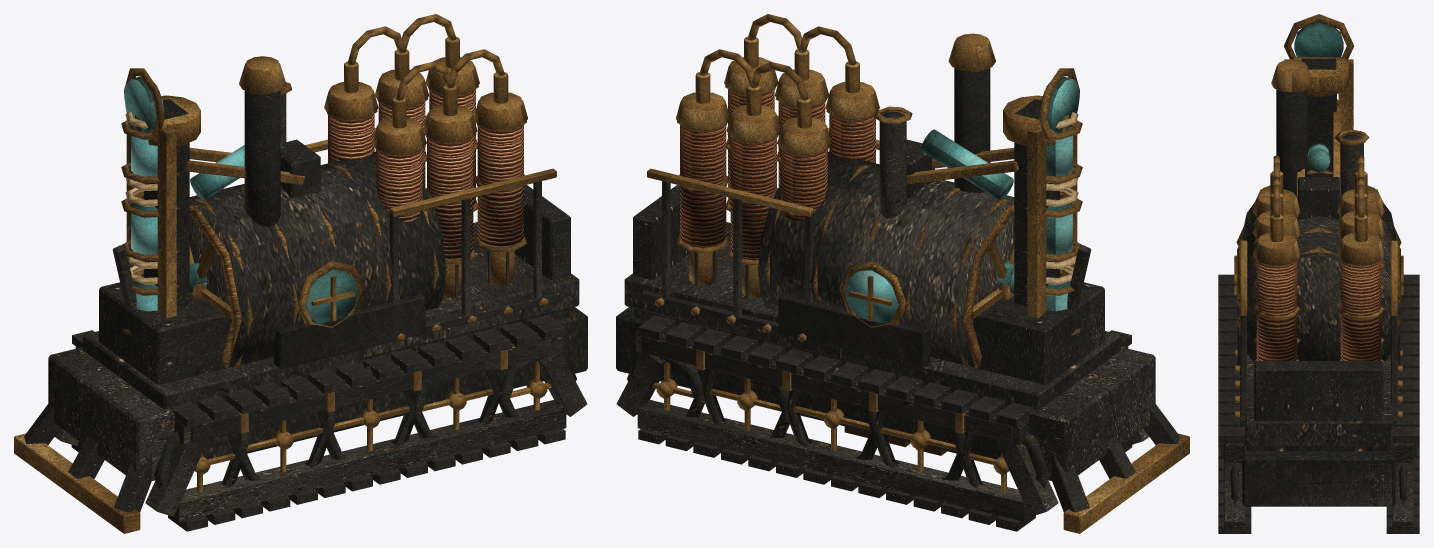
File: crawler.glb
3 renders of one model, left to right at view 1: azimuth 30°, elevation 25°; view 2: azimuth 150°, elevation 25°; view 3: azimuth 270°, elevation 25°, orthographic. The views are drawn at different scales.
Visible parts, largest first — view 1: capacitor_bank, tracks, drain_mast; view 2: capacitor_bank, tracks, drain_mast; view 3: capacitor_bank, tracks, drain_mast.
Boxes of the visible parts, <box> form: capacitor_bank: <box>189,14,579,368</box>; tracks: <box>14,307,587,533</box>; drain_mast: <box>99,68,320,384</box>; capacitor_bank: <box>624,14,1014,368</box>; tracks: <box>616,307,1189,533</box>; drain_mast: <box>906,68,1104,384</box>; capacitor_bank: <box>1234,59,1403,446</box>; tracks: <box>1218,274,1419,533</box>; drain_mast: <box>1284,14,1353,219</box>.
Size of the model in its own units: 3.2 by 2.68 by 1.34.
Materials: 1 (1 with a texture image).
